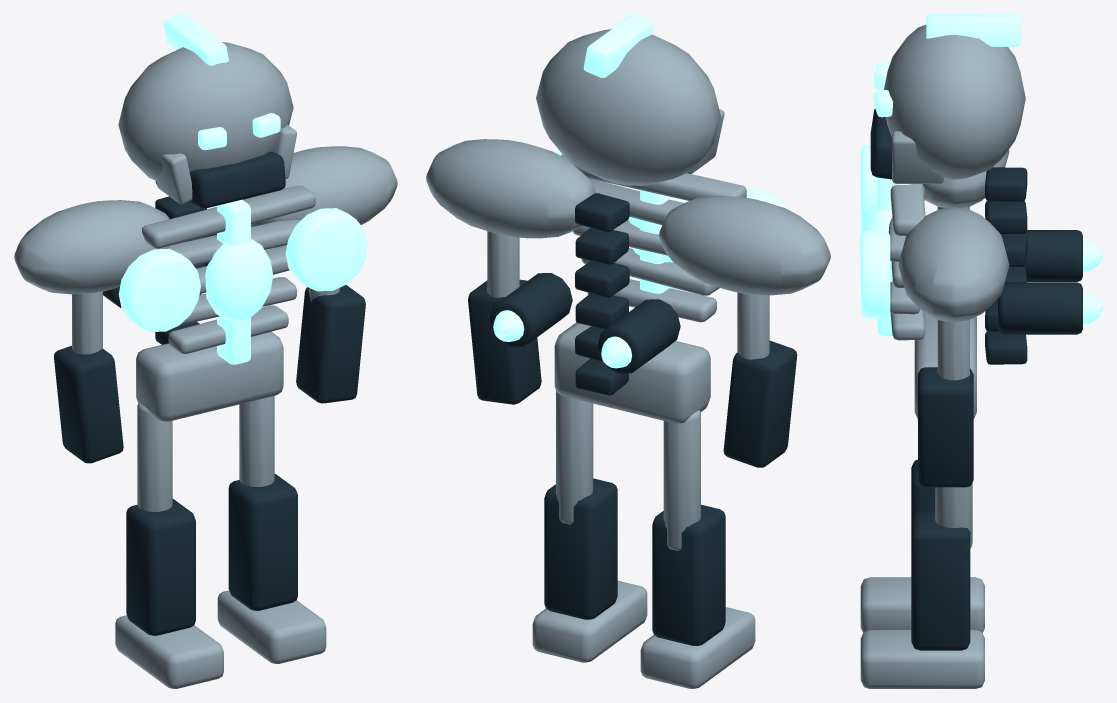
Rendered from Doombringer_CryoRevenant_Armor.fbx.
3 renders of one model, left to right at view 1: azimuth 30°, elevation 25°; view 2: azimuth 150°, elevation 25°; view 3: azimuth 270°, elevation 25°, orthographic. The views are drawn at different scales.
Parts seen in each view (by area): view 1: Skull.008, Scapula_L.008, Pelvis.008, ShinBlade_R.008, ShinBlade_L.008, ForearmBlade_R.008, ForearmBlade_L.008, Scapula_R.008, ShieldEmitter_1, ShieldEmitter_-1, Talon_R.008, Talon_L.008 (+16 smaller); view 2: Skull.008, Scapula_L.008, Scapula_R.008, ShinBlade_L.008, ShinBlade_R.008, Pelvis.008, ForearmBlade_L.008, ForearmBlade_R.008, Talon_R.008, Talon_L.008, Femur_L.008, Femur_R.008 (+19 smaller); view 3: Skull.008, Scapula_R.008, ShinBlade_R.008, ForearmBlade_R.008, Talon_R.008, SoulJet_1.008, Talon_L.008, SoulJet_-1.008, ShieldEmitter_1, CranialSpine.008, ArmBone_R.008, Pelvis.008 (+19 smaller).
Boxes of the visible parts, left/top/right/bottom form: Skull.008: left=118, top=42, right=293, bottom=180; Scapula_L.008: left=14, top=200, right=170, bottom=294; Pelvis.008: left=136, top=331, right=283, bottom=421; ShinBlade_R.008: left=228, top=474, right=297, bottom=610; ShinBlade_L.008: left=126, top=499, right=195, bottom=635; ForearmBlade_R.008: left=296, top=285, right=365, bottom=403; ForearmBlade_L.008: left=54, top=345, right=123, bottom=463; Scapula_R.008: left=242, top=146, right=397, bottom=226; ShieldEmitter_1: left=285, top=208, right=367, bottom=291; ShieldEmitter_-1: left=118, top=248, right=200, bottom=331; Talon_R.008: left=217, top=590, right=326, bottom=663; Talon_L.008: left=115, top=615, right=223, bottom=688; Skull.008: left=536, top=29, right=720, bottom=185; Scapula_L.008: left=659, top=196, right=830, bottom=295; Scapula_R.008: left=426, top=139, right=595, bottom=238; ShinBlade_L.008: left=652, top=504, right=725, bottom=645; ShinBlade_R.008: left=544, top=478, right=617, bottom=619; Pelvis.008: left=554, top=322, right=710, bottom=423; ForearmBlade_L.008: left=723, top=340, right=797, bottom=467; ForearmBlade_R.008: left=468, top=279, right=541, bottom=404; Talon_R.008: left=532, top=580, right=647, bottom=662; Talon_L.008: left=640, top=607, right=755, bottom=688; Femur_L.008: left=663, top=410, right=700, bottom=550; Femur_R.008: left=556, top=390, right=593, bottom=524; Skull.008: left=884, top=24, right=1025, bottom=179; Scapula_R.008: left=898, top=207, right=1009, bottom=322; ShinBlade_R.008: left=911, top=511, right=970, bottom=650; ForearmBlade_R.008: left=918, top=367, right=973, bottom=487; Talon_R.008: left=860, top=630, right=984, bottom=688; SoulJet_1.008: left=998, top=282, right=1082, bottom=334; Talon_L.008: left=860, top=577, right=984, bottom=632; SoulJet_-1.008: left=1025, top=230, right=1082, bottom=281; ShieldEmitter_1: left=860, top=230, right=890, bottom=318; CranialSpine.008: left=926, top=14, right=1020, bottom=46; ArmBone_R.008: left=937, top=320, right=969, bottom=380; Pelvis.008: left=914, top=312, right=976, bottom=418.
Bounding box in the file's own units: 278 × 429 × 149.
